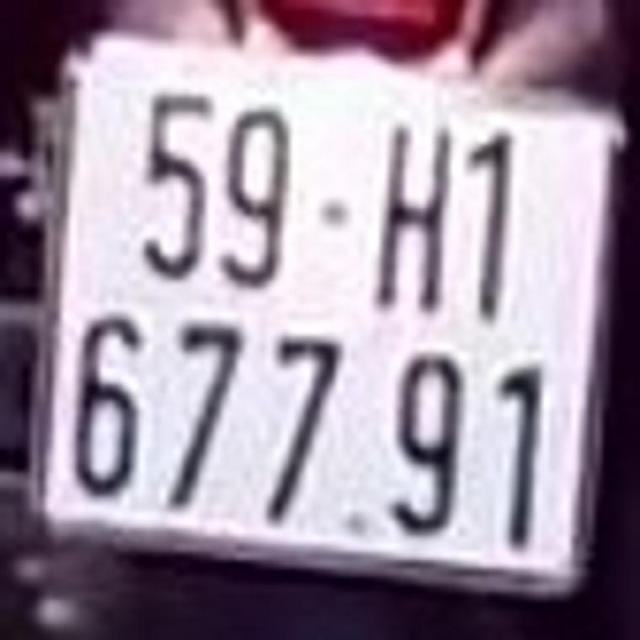1: (461, 115, 512, 320), (495, 359, 539, 546)
5: (142, 85, 213, 278)
6: (68, 306, 135, 496)
7: (264, 324, 342, 528), (170, 310, 244, 516)
9: (389, 341, 462, 538), (224, 96, 291, 287)
H: (376, 114, 452, 313)
